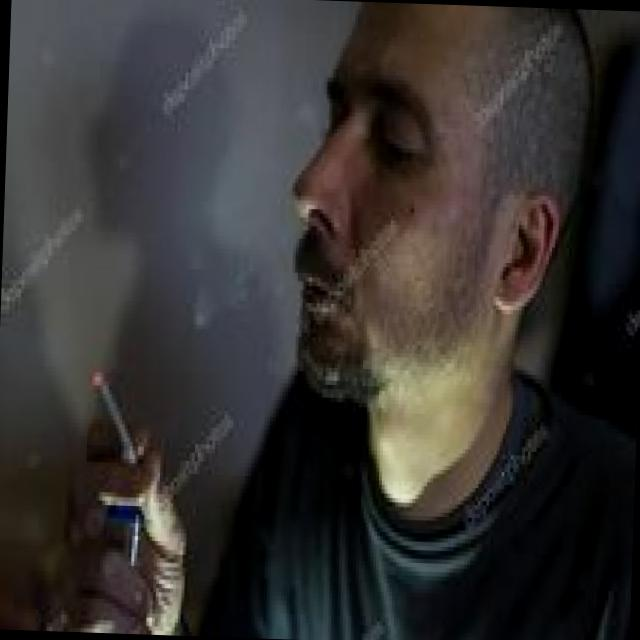smoke: (83, 359, 155, 468)
